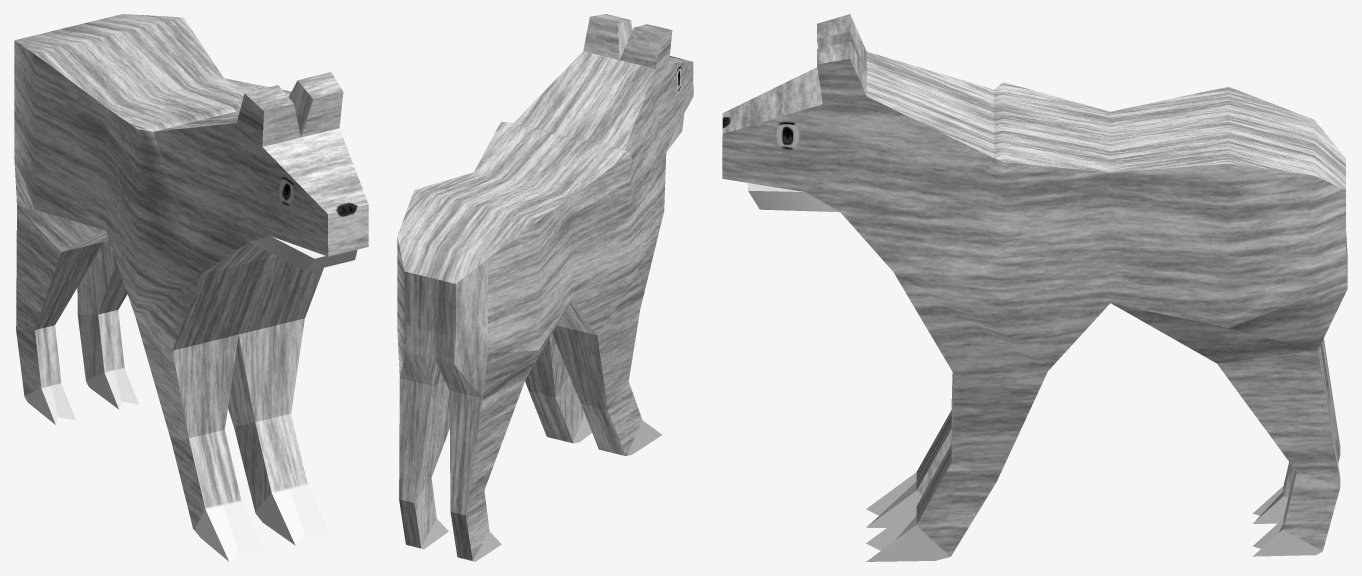
File: dog.fbx
3 renders of one model, left to right at view 1: azimuth 30°, elevation 25°; view 2: azimuth 150°, elevation 25°; view 3: azimuth 270°, elevation 25°, orthographic. The views are drawn at different scales.
Visible parts, largest first — view 1: pCube1; view 2: pCube1; view 3: pCube1.
Boxes of the visible parts, box(x1,y1,x2,y2) form: pCube1: box(14, 14, 368, 561); pCube1: box(397, 14, 693, 561); pCube1: box(722, 14, 1347, 561).
Bounding box in the file's own units: 3.41 × 9.96 × 11.29.
